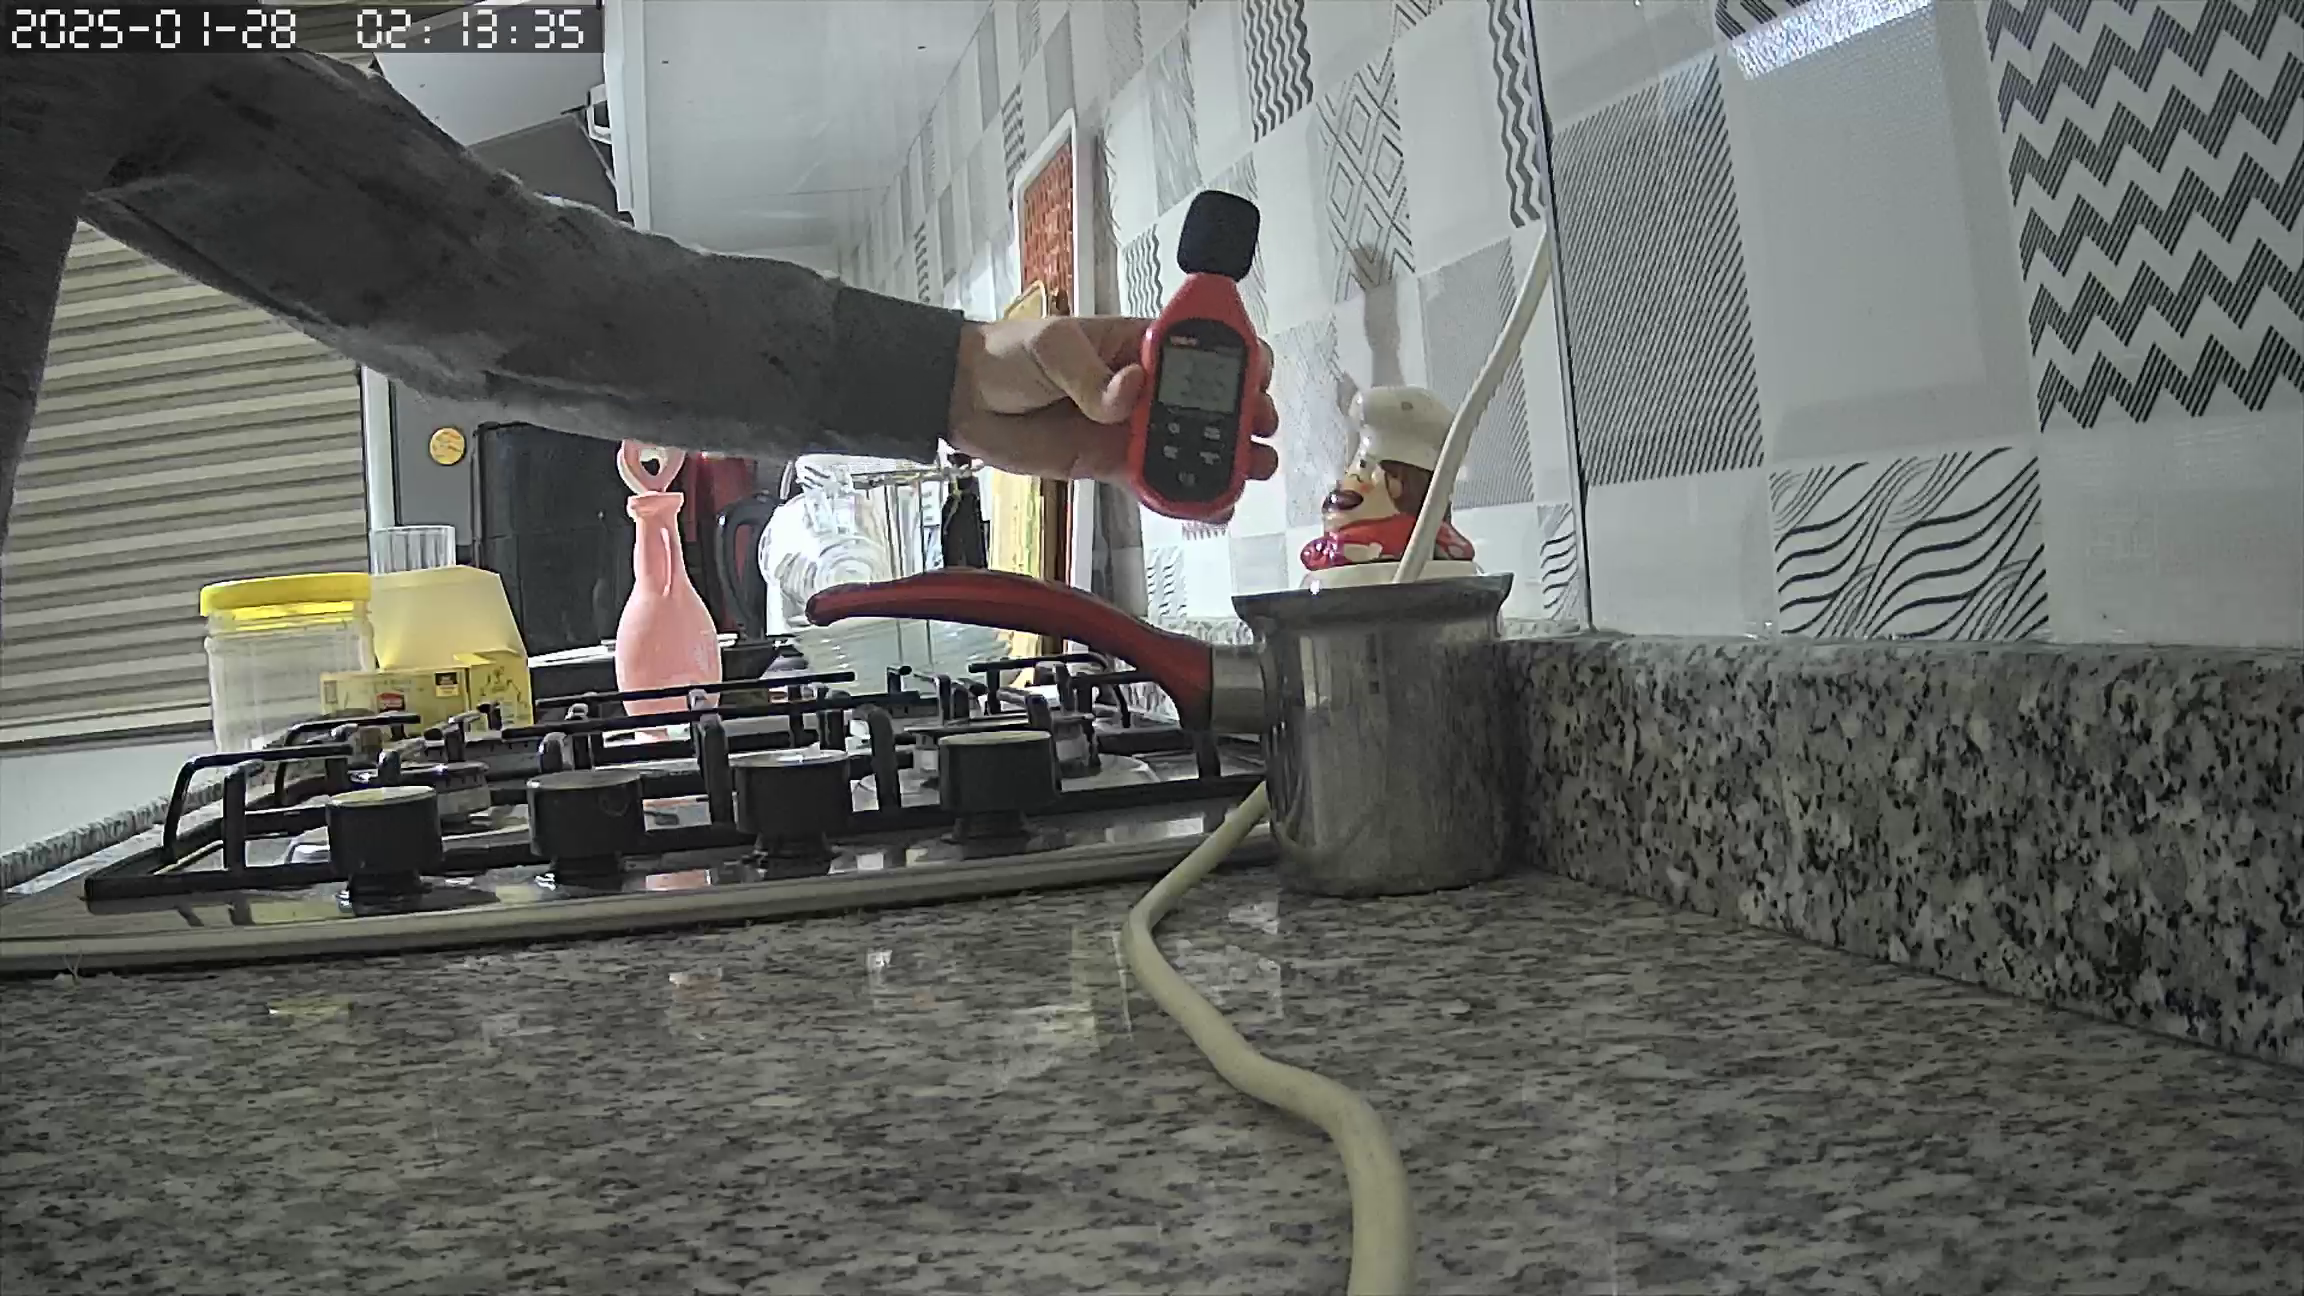screen: (1158, 348, 1239, 411)
